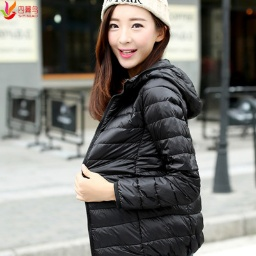face: (97, 5, 170, 79)
